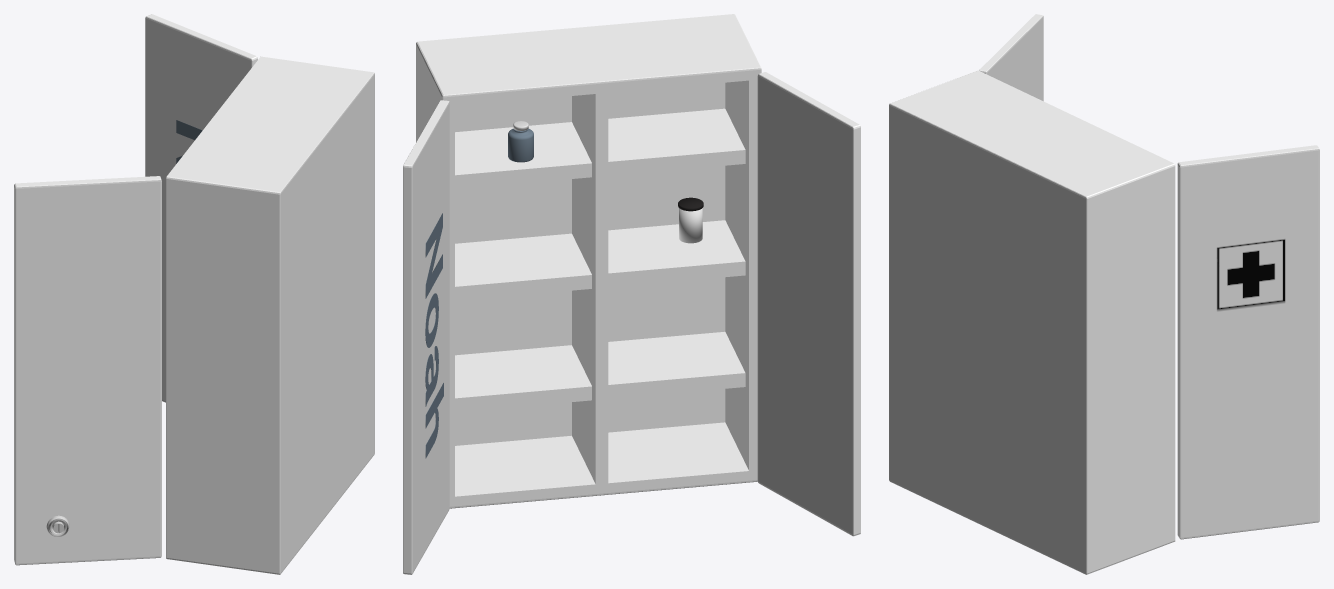
Rendered from medschrank_reworked.fbx.
The picture shows the model from 3 angles, left to right: view 1: azimuth 30°, elevation 25°; view 2: azimuth 150°, elevation 25°; view 3: azimuth 270°, elevation 25°; orthographic projection. The views are drawn at different scales.
Visible parts, largest first — view 1: Medschrank; view 2: Medschrank, Text, F2, F1; view 3: Medschrank.
Part boxes in pixels (left/top/right/bottom): Medschrank: left=14, top=14, right=374, bottom=574; Medschrank: left=403, top=14, right=860, bottom=574; Text: left=425, top=213, right=443, bottom=458; F2: left=678, top=197, right=703, bottom=243; F1: left=508, top=121, right=533, bottom=162; Medschrank: left=889, top=14, right=1319, bottom=574.
Bounding box in the file's own units: 102 × 96.61 × 99.74.
6 materials, 1 textured.
